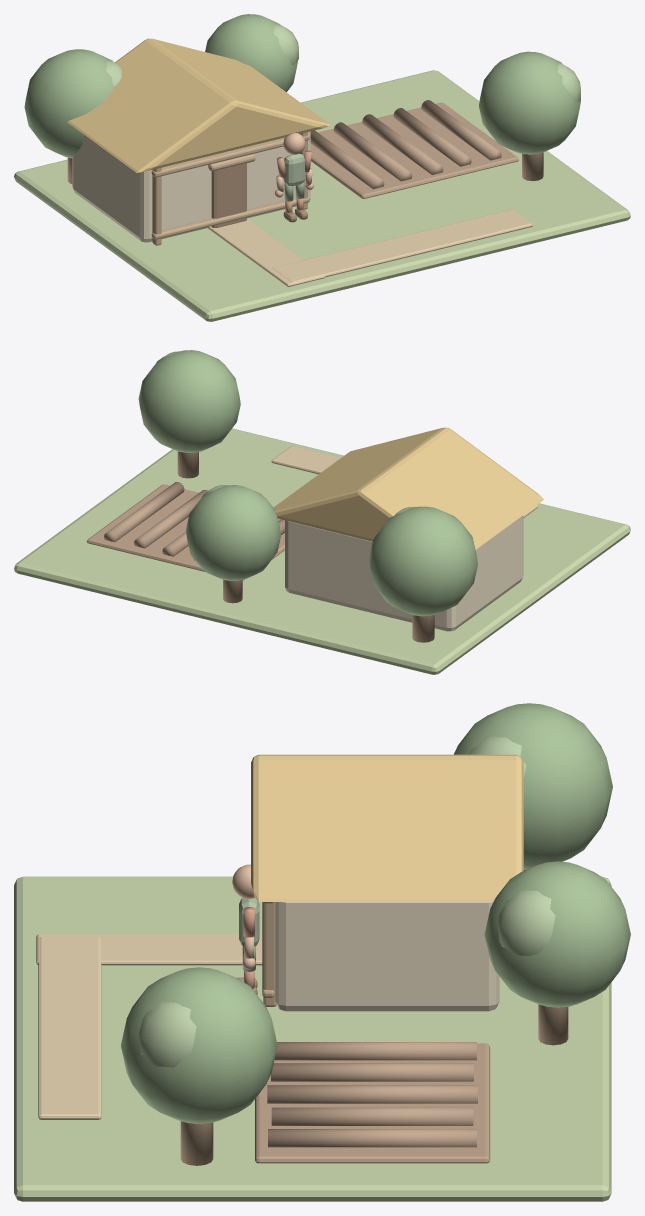
The model's file is village-corner-b.glb.
The picture shows the model from 3 angles, top to bottom: view 1: azimuth 30°, elevation 25°; view 2: azimuth 150°, elevation 25°; view 3: azimuth 270°, elevation 25°; orthographic projection. The views are drawn at different scales.
Visible parts, largest first — view 1: Parcel_Ground, House_Roof, House_Walls, Tree_3_Crown, Field_Bed, Tree_1_Crown, Path_Turn, Tree_2_Crown, Path_To_Door, Door, Furrow_3, Furrow_5 (+10 smaller); view 2: Parcel_Ground, House_Roof, House_Walls, Tree_1_Crown, Tree_3_Crown, Tree_2_Crown, Field_Bed, Furrow_5, Path_Turn, Furrow_4, Tree_1_Trunk, Tree_3_Trunk; view 3: Parcel_Ground, House_Roof, House_Walls, Tree_3_Crown, Tree_2_Crown, Tree_1_Crown, Path_Turn, Field_Bed, Path_To_Door, Furrow_3, Furrow_5, Furrow_4 (+8 smaller).
Part boxes in pixels (x1,y1,x2,y2): Parcel_Ground: (14,70,630,321); House_Roof: (67,38,331,172); House_Walls: (72,131,310,242); Tree_3_Crown: (479,51,580,154); Field_Bed: (310,102,518,198); Tree_1_Crown: (24,49,114,158); Path_Turn: (272,209,532,282); Tree_2_Crown: (205,14,297,92); Path_To_Door: (207,218,325,286); Door: (211,163,246,227); Furrow_3: (362,114,443,174); Furrow_5: (421,100,501,160); Parcel_Ground: (14,428,630,674); House_Roof: (273,427,543,549); House_Walls: (285,515,523,631); Tree_1_Crown: (369,506,477,616); Tree_3_Crown: (138,350,240,452); Tree_2_Crown: (185,485,280,580); Field_Bed: (87,484,284,580); Furrow_5: (104,482,184,542); Path_Turn: (271,445,340,474); Furrow_4: (134,490,207,548); Tree_1_Trunk: (412,615,434,642); Tree_3_Trunk: (177,451,198,478); Parcel_Ground: (14,876,611,1201); House_Roof: (251,754,523,901); House_Walls: (275,902,499,1011); Tree_3_Crown: (121,967,277,1123); Tree_2_Crown: (484,861,630,1007); Tree_1_Crown: (454,703,612,869); Path_Turn: (38,937,101,1119); Field_Bed: (255,1043,490,1163); Path_To_Door: (36,934,262,965); Furrow_3: (267,1085,477,1103); Furrow_5: (268,1129,476,1147); Furrow_4: (271,1107,473,1125).
Size of the model in its own units: 10.22 by 3.14 by 8.26.
